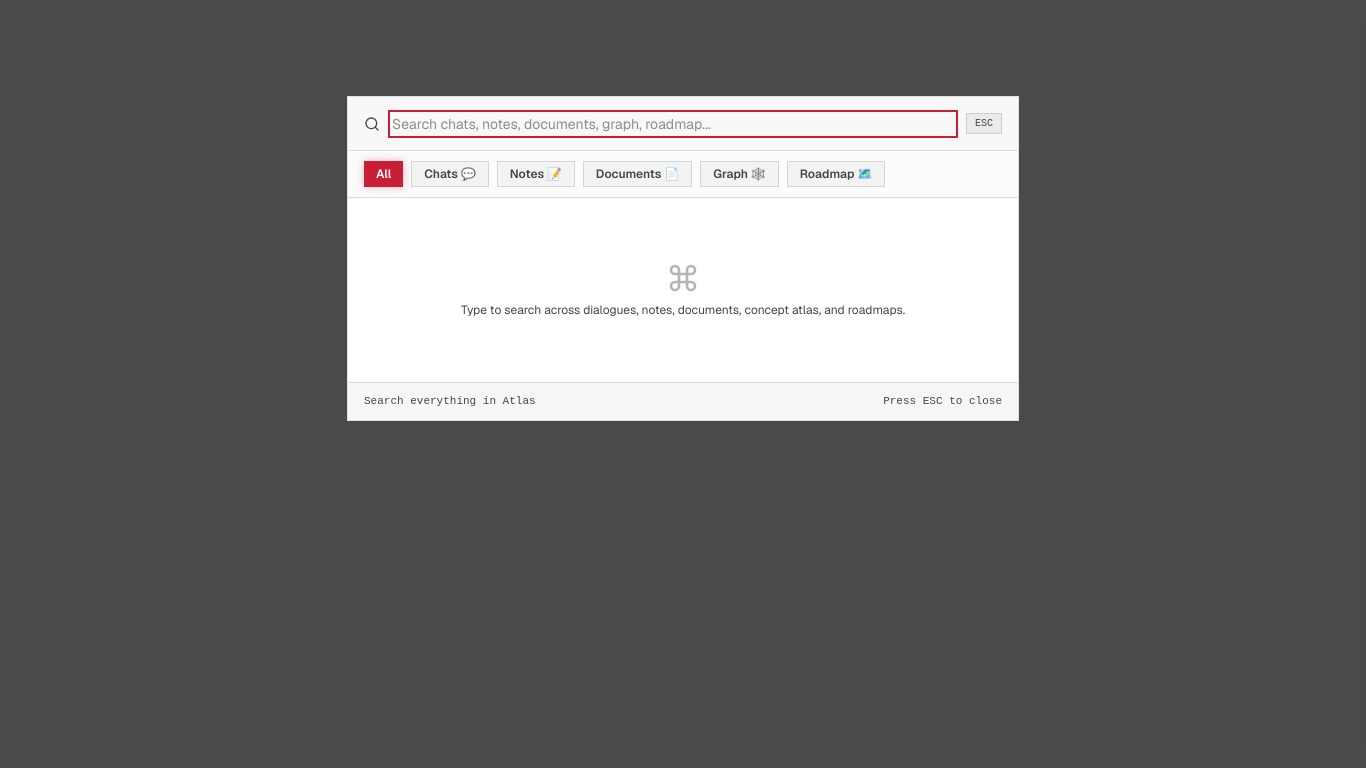
Test: GlobalSearchModal Component & Integration Tests › fetches and displays search results when query is entered
This screenshot has width=1366, height=768.
In the field with placeholder "Search chats, notes, documents, graph, roadmap...": (673, 124) [392, 114, 954, 134], type "Thermodynamics"
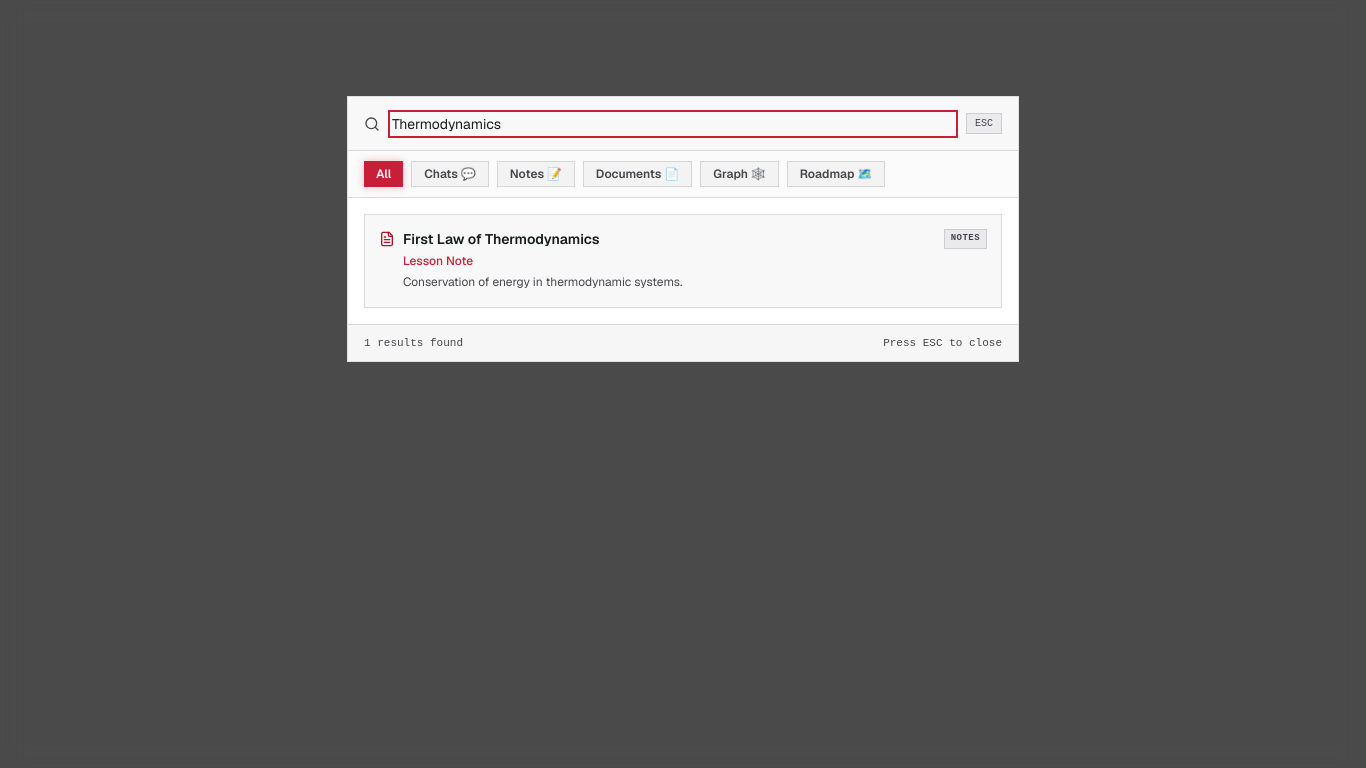
Expected: the text "First Law of Thermodynamics" is shown, [403, 229, 600, 249]
Expected: the text "Conservation of energy in thermodynamic systems." is shown, [403, 274, 682, 290]
